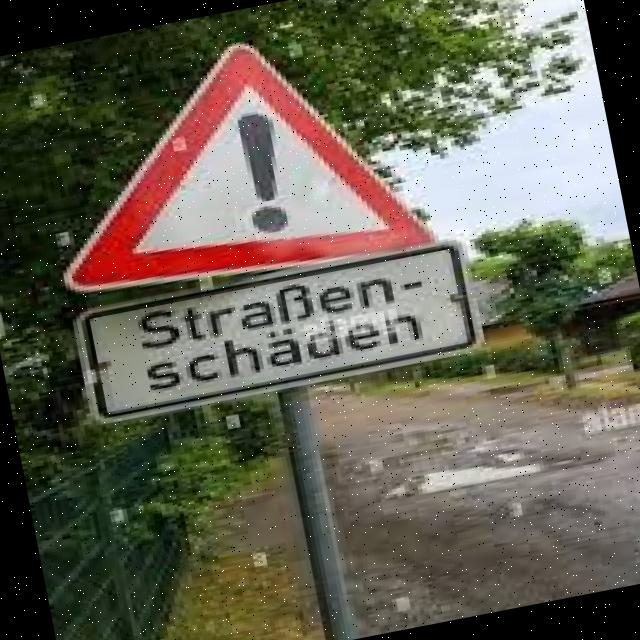warning: (22, 8, 456, 319)
